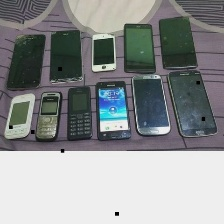phone: (164, 65, 220, 142), (129, 70, 171, 138), (1, 30, 47, 89), (156, 12, 199, 75), (92, 77, 131, 142), (47, 25, 87, 86), (118, 19, 160, 74), (1, 90, 40, 141), (31, 86, 65, 143), (64, 83, 95, 142), (87, 30, 118, 74)
